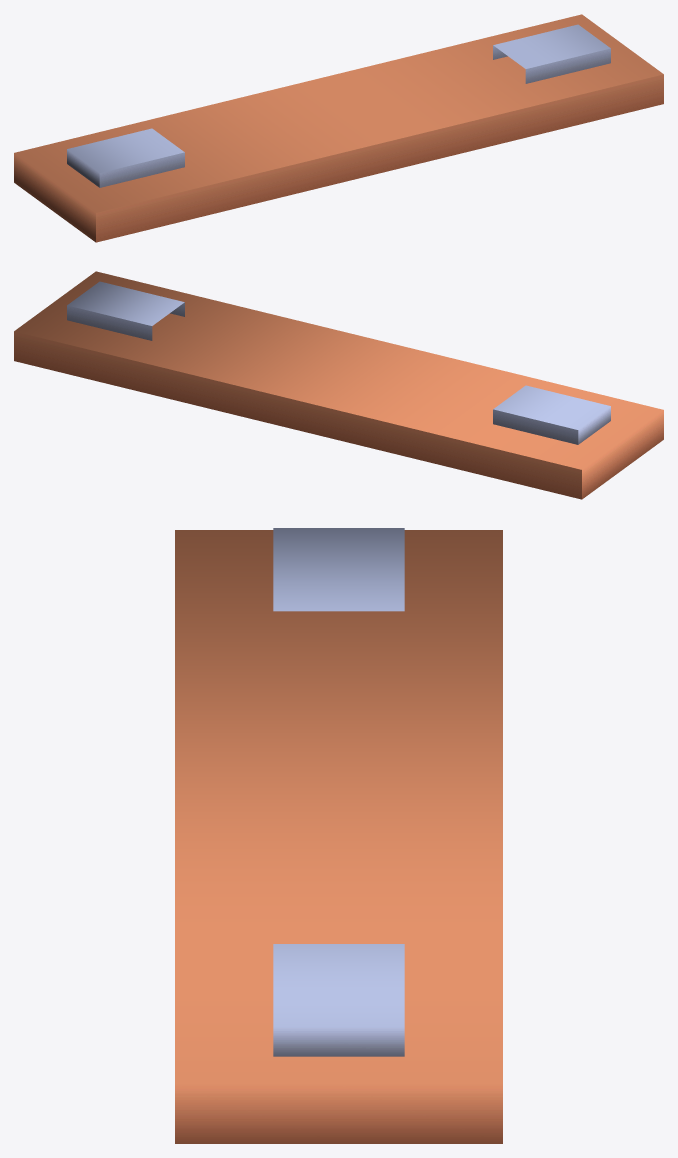
The model's file is kenney-train-spline-segment.glb.
3 views of the same model, one above another, from view 1: azimuth 30°, elevation 25°; view 2: azimuth 150°, elevation 25°; view 3: azimuth 270°, elevation 25° (orthographic). The views are drawn at different scales.
Parts seen in each view (by area): view 1: spline-segment; view 2: spline-segment; view 3: spline-segment.
Part boxes in pixels (<box>): spline-segment: <box>14,14,663,242</box>; spline-segment: <box>14,271,663,499</box>; spline-segment: <box>175,528,502,1143</box>.
Size of the model in its own units: 1 by 0.075 by 0.25.
Materials: 1 (1 with a texture image).
